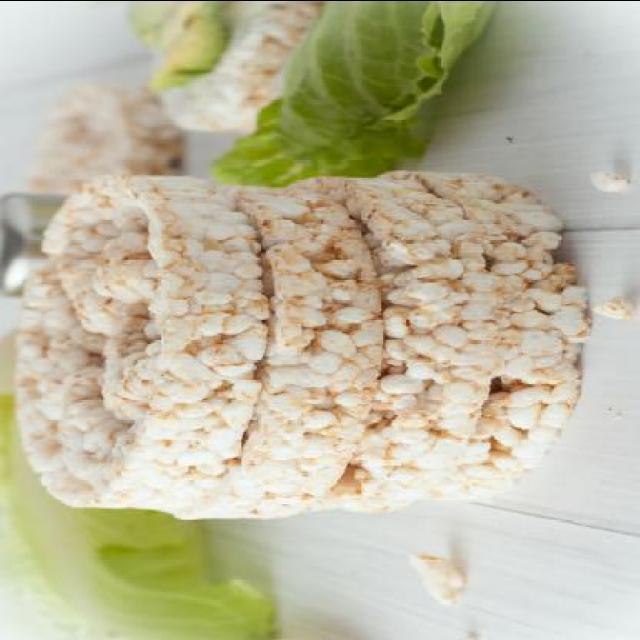Gallette di riso packaged: (11, 167, 574, 525)
